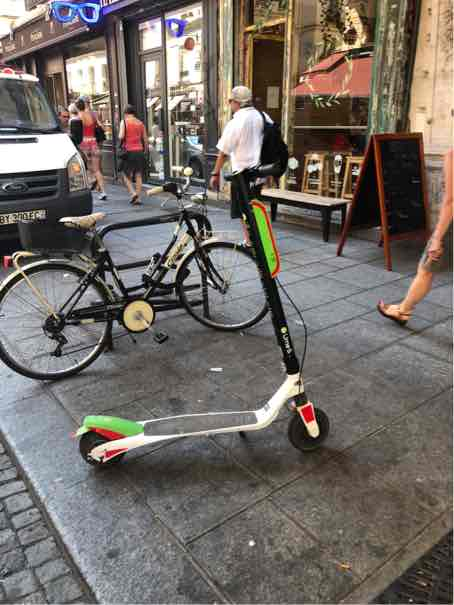scooter: (68, 162, 338, 478)
